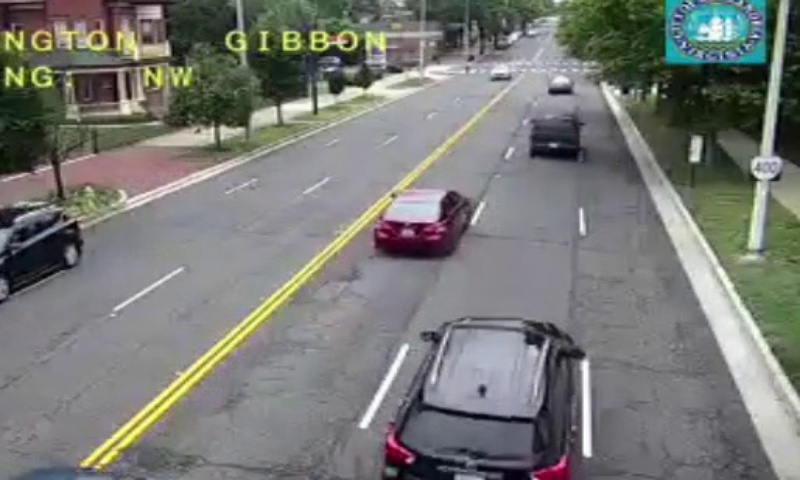car: (384, 316, 575, 480), (375, 189, 471, 255), (530, 119, 578, 156)
